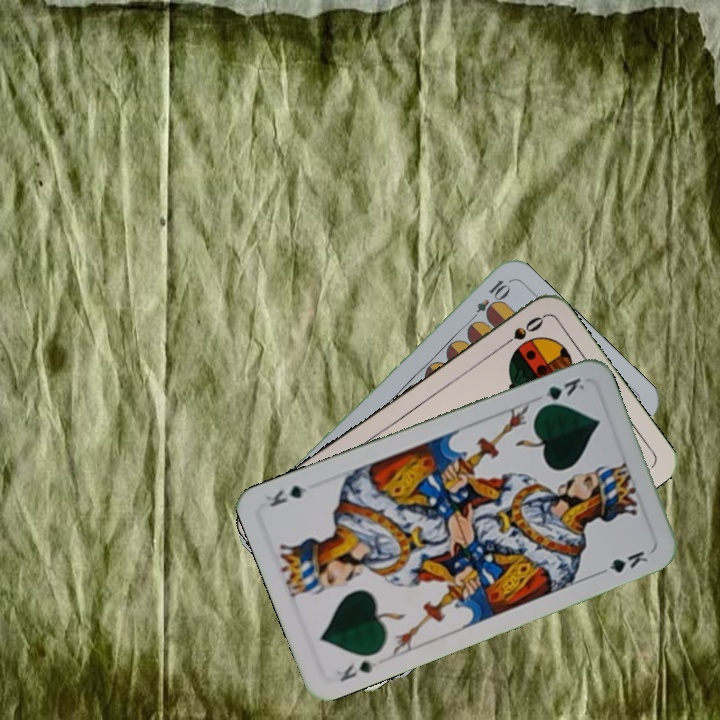E10: (465, 275, 512, 326)
GK: (535, 373, 587, 411), (331, 656, 379, 685)
SO: (495, 312, 547, 352)
